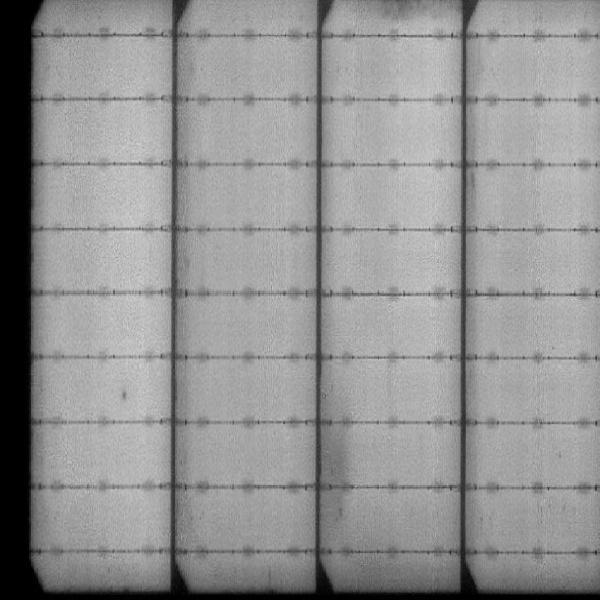no_electricity: (1, 1, 30, 596)
